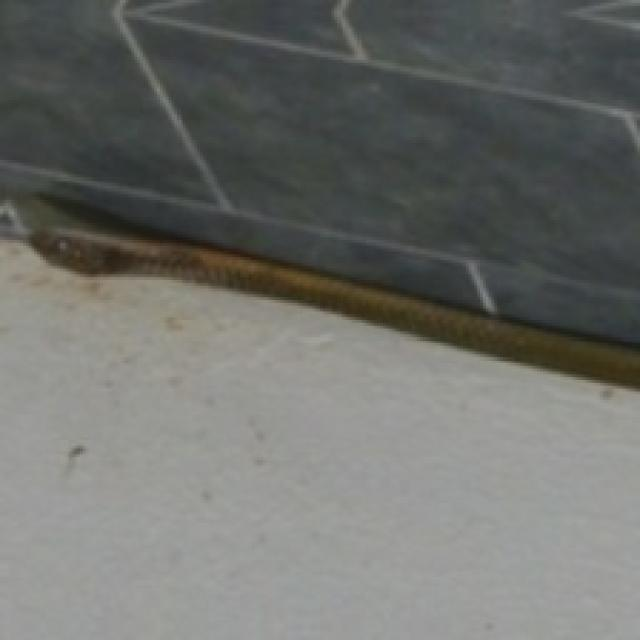king cobra: (30, 229, 640, 388)
